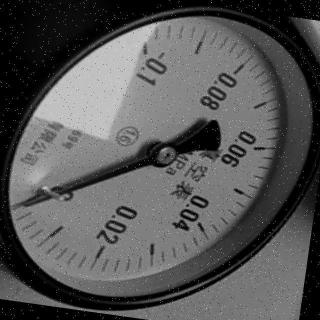gauge: (0, 0, 320, 315), (4, 184, 52, 232), (126, 33, 161, 72), (146, 140, 180, 171), (12, 196, 38, 215)
